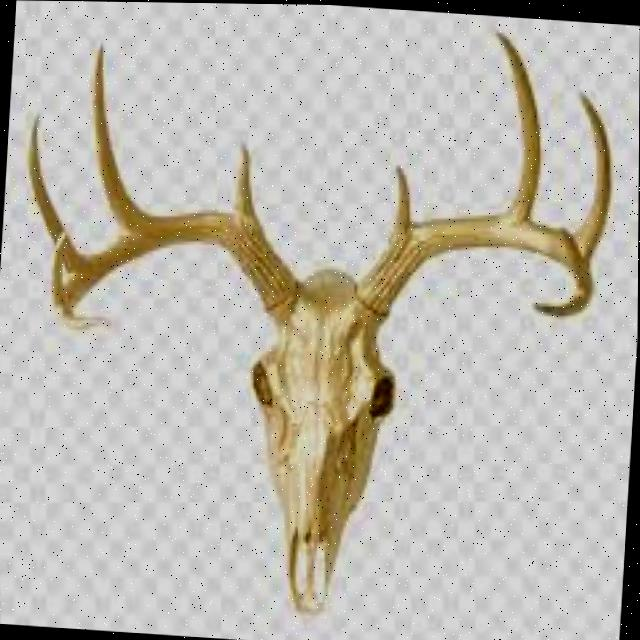L-F: (60, 209, 305, 329)
L-G1: (234, 140, 257, 216)
L-G2: (92, 38, 151, 230)
L-G3: (28, 110, 88, 273)
R-F: (357, 215, 598, 316)
R-G1: (392, 161, 411, 235)
R-G2: (494, 26, 542, 218)
R-G3: (575, 87, 613, 261)
